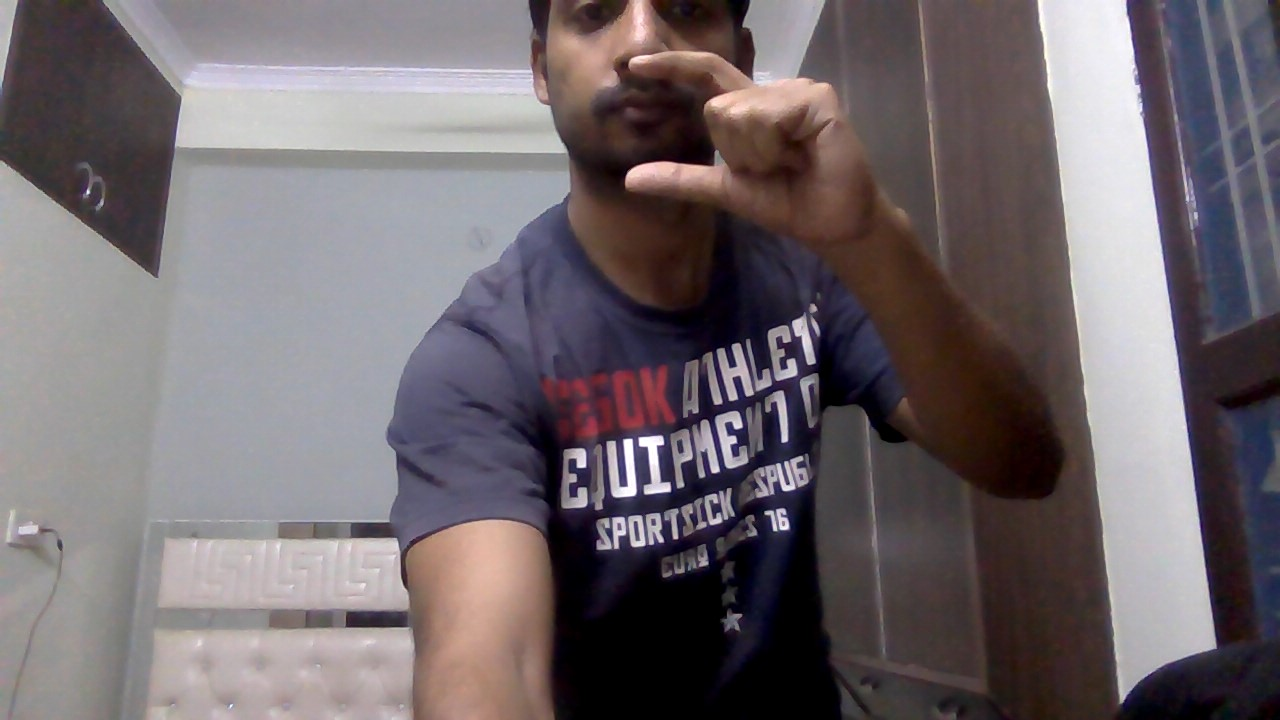Paste: (613, 48, 884, 265)
